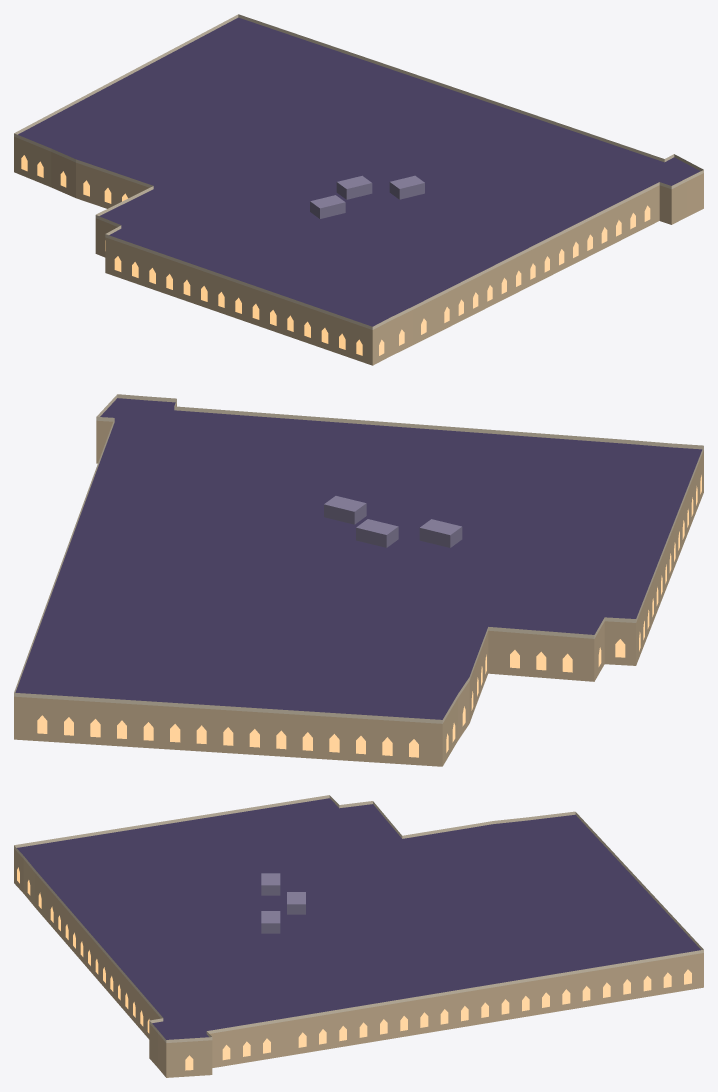
3 renders of one model, top to bottom at view 1: azimuth 30°, elevation 25°; view 2: azimuth 150°, elevation 25°; view 3: azimuth 270°, elevation 25°, orthographic. The views are drawn at different scales.
Parts seen in each view (by area): view 1: campus/b-058-0; view 2: campus/b-058-0; view 3: campus/b-058-0.
Part boxes in pixels (<box>): campus/b-058-0: <box>14,14,703,365</box>; campus/b-058-0: <box>14,394,703,766</box>; campus/b-058-0: <box>14,795,703,1077</box>.
Size of the model in its own units: 90.6 by 7.8 by 108.
